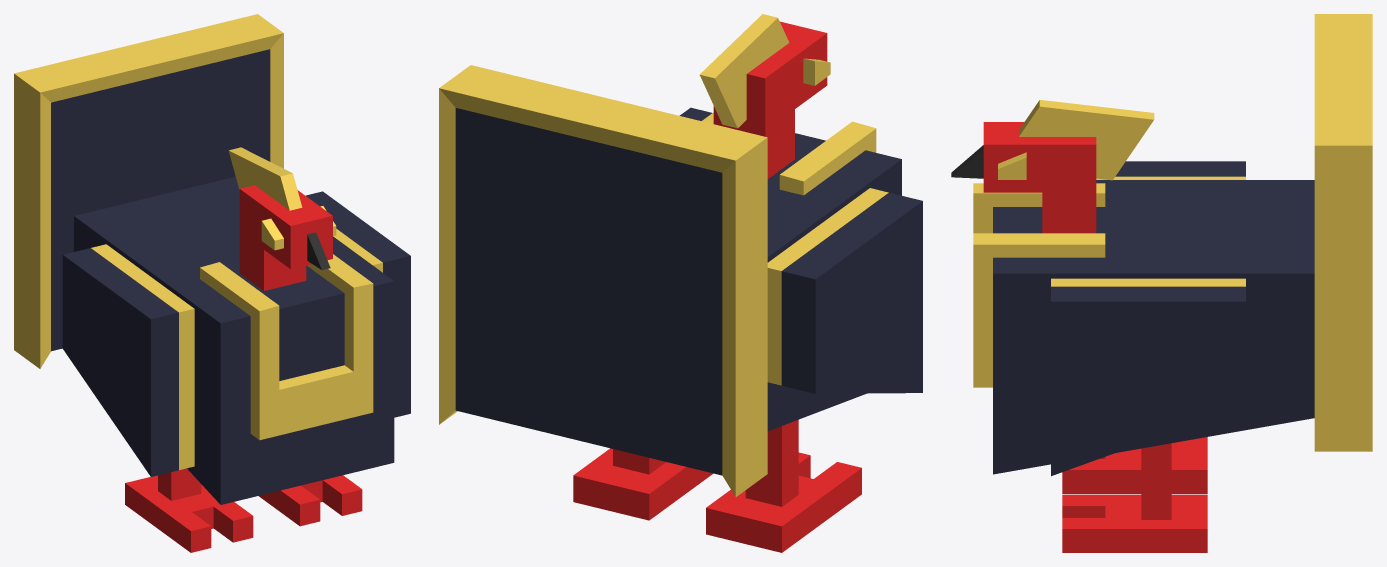
The model's file is 082 Chicken.fbx.
3 views of the same model, side by side, from view 1: azimuth 30°, elevation 25°; view 2: azimuth 150°, elevation 25°; view 3: azimuth 270°, elevation 25° (orthographic). The views are drawn at different scales.
Parts seen in each view (by area): view 1: Lowpoly_Christmas_Pack_082:pCube11; view 2: Lowpoly_Christmas_Pack_082:pCube11; view 3: Lowpoly_Christmas_Pack_082:pCube11.
Boxes of the visible parts, <box> form: Lowpoly_Christmas_Pack_082:pCube11: <box>14,14,410,552</box>; Lowpoly_Christmas_Pack_082:pCube11: <box>439,14,922,552</box>; Lowpoly_Christmas_Pack_082:pCube11: <box>951,14,1372,552</box>.
Size of the model in its own units: 0.8319 by 1.18 by 1.06.
